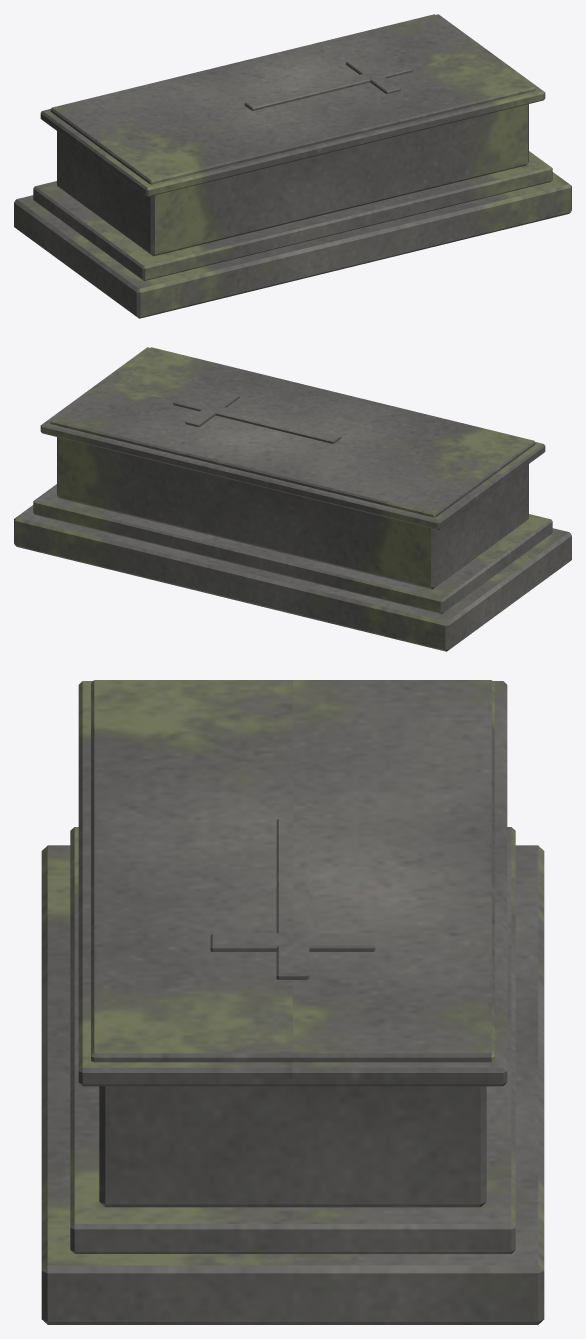
Rendered from pr_grave3.glb.
3 renders of one model, top to bottom at view 1: azimuth 30°, elevation 25°; view 2: azimuth 150°, elevation 25°; view 3: azimuth 270°, elevation 25°, orthographic. The views are drawn at different scales.
Visible parts, largest first — view 1: pr_grave3; view 2: pr_grave3; view 3: pr_grave3.
Part boxes in pixels (x1,y1,x2,y2): pr_grave3: (14, 14, 571, 318); pr_grave3: (14, 347, 571, 651); pr_grave3: (41, 680, 544, 1324).
Bounding box in the file's own units: 2.44 × 0.68 × 1.22.
1 material, 1 textured.
